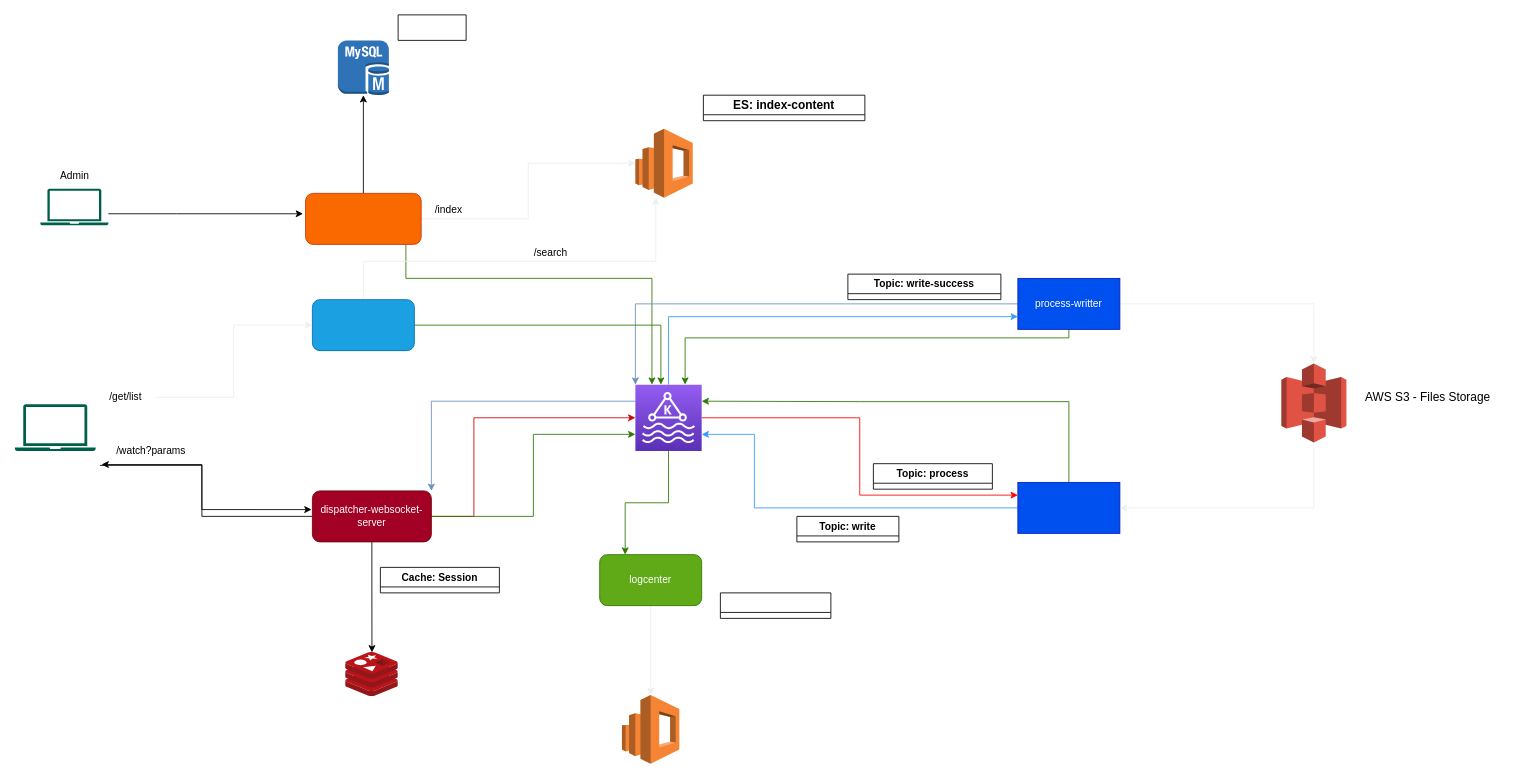
Image size: 1522x779. Some labels were removed from this diagram. Each missing label, with the centre of its shape:
"admin-manager" belongs at (363,218).
"content-searcher" belongs at (363,325).
"process-reader" belongs at (1068,507).
"Tables" belongs at (431,27).
